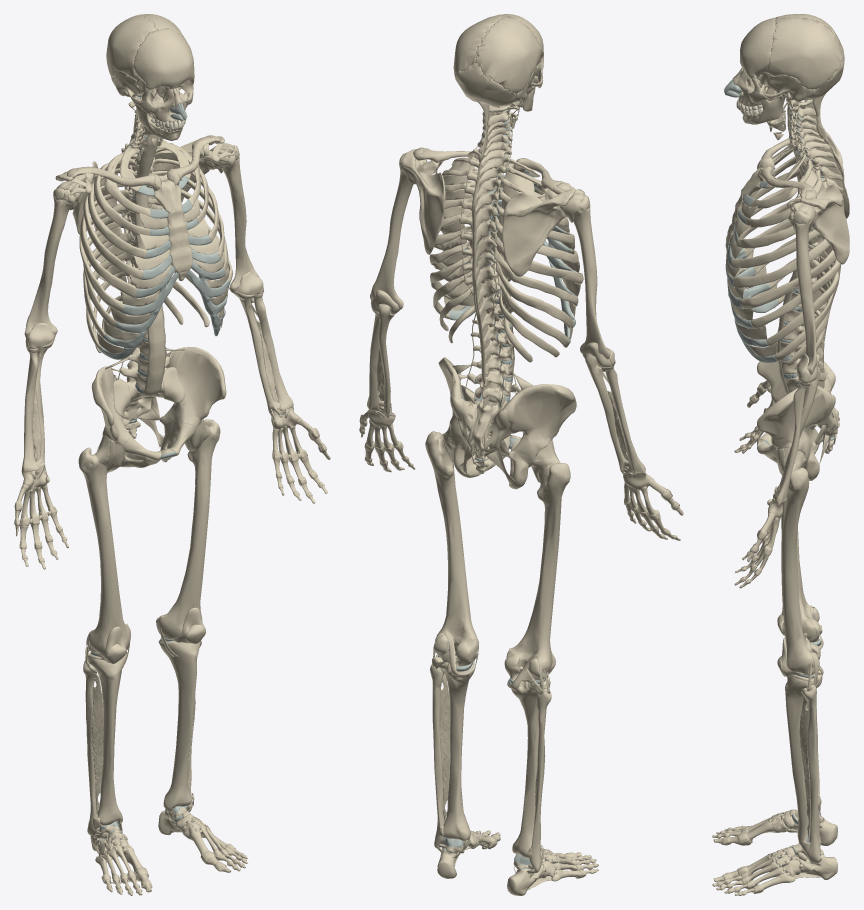
The model's file is male-skeletal.glb.
The picture shows the model from 3 angles, left to right: view 1: azimuth 30°, elevation 25°; view 2: azimuth 150°, elevation 25°; view 3: azimuth 270°, elevation 25°; orthographic projection. The views are drawn at different scales.
Parts seen in each view (by area): view 1: Femurr, Hip_bonel, Femurl, Tibial, Frontal_bone, Tibiar, External_intercostal_membraner, Anterior_longitudinal_ligament, Hip_boner, Humerusr, Parietal_boner, Humerusl (+19 smaller); view 2: Femurl, Femurr, Hip_boner, Scapular, Parietal_boner, Tibial, Tibiar, Scapulal, Humerusr, Humerusl, Internal_intercostal_membranel, Hip_bonel (+21 smaller); view 3: Parietal_bonel, Femurl, Hip_bonel, Tibial, Humerusl, Scapulal, Fibulal, External_intercostal_membranel, Frontal_bone, Radiusl, Hip_boner, Seventh_ribl (+28 smaller).
Boxes of the visible parts, box(x1,y1,x2,y2) form: Femurr: box(78, 447, 130, 654); Hip_bonel: box(159, 347, 226, 462); Femurl: box(156, 419, 220, 638); Tibial: box(158, 640, 200, 811); Frontal_bone: box(134, 28, 194, 91); Tibiar: box(88, 652, 127, 825); External_intercostal_membraner: box(96, 212, 171, 353); Anterior_longitudinal_ligament: box(134, 113, 165, 397); Hip_boner: box(91, 366, 161, 467); Humerusr: box(24, 187, 76, 337); Parietal_boner: box(106, 15, 158, 79); Humerusl: box(223, 145, 258, 292); Femurl: box(425, 431, 478, 661); Femurr: box(506, 462, 570, 677); Hip_boner: box(502, 384, 576, 489); Scapular: box(502, 187, 575, 276); Parietal_boner: box(476, 16, 541, 93); Tibial: box(439, 659, 475, 840); Tibiar: box(507, 679, 550, 857); Scapulal: box(401, 149, 445, 254); Humerusr: box(573, 195, 610, 359); Humerusl: box(370, 152, 413, 311); Internal_intercostal_membranel: box(440, 162, 474, 306); Hip_bonel: box(438, 357, 509, 477); Parietal_bonel: box(765, 17, 842, 89); Femurl: box(781, 467, 817, 673); Hip_bonel: box(757, 386, 832, 480); Tibial: box(785, 673, 821, 845); Humerusl: box(788, 209, 817, 374); Scapulal: box(787, 183, 849, 264); Fibulal: box(803, 686, 820, 863); External_intercostal_membranel: box(726, 202, 777, 356); Frontal_bone: box(740, 17, 776, 78); Radiusl: box(773, 383, 809, 506); Hip_boner: box(757, 352, 832, 453); Seventh_ribl: box(741, 249, 836, 308).
Bounding box in the file's own units: 2.14 × 5.43 × 0.7999.
